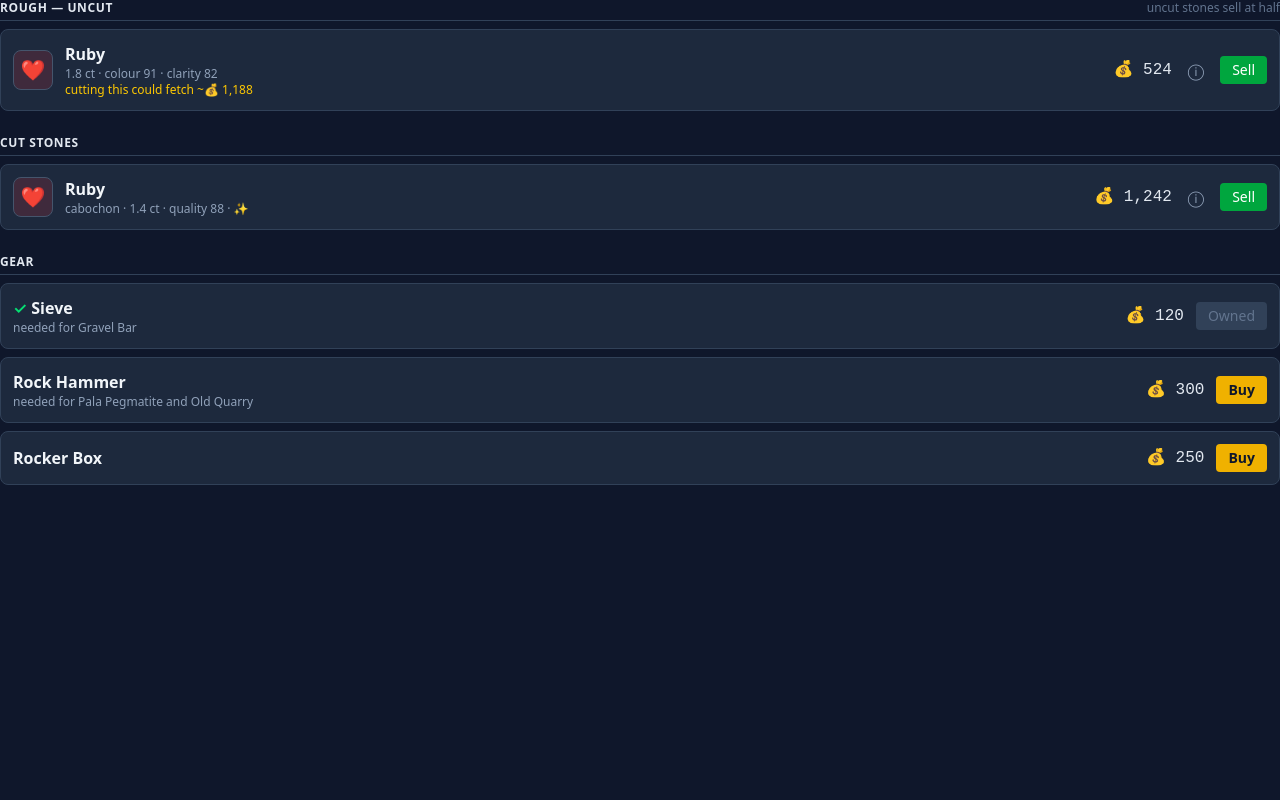
Test: Market › explains a price in a breakdown modal
Click the button named "Why this price for cut Ruby" at (1196, 197), box [1184,185,1208,209]
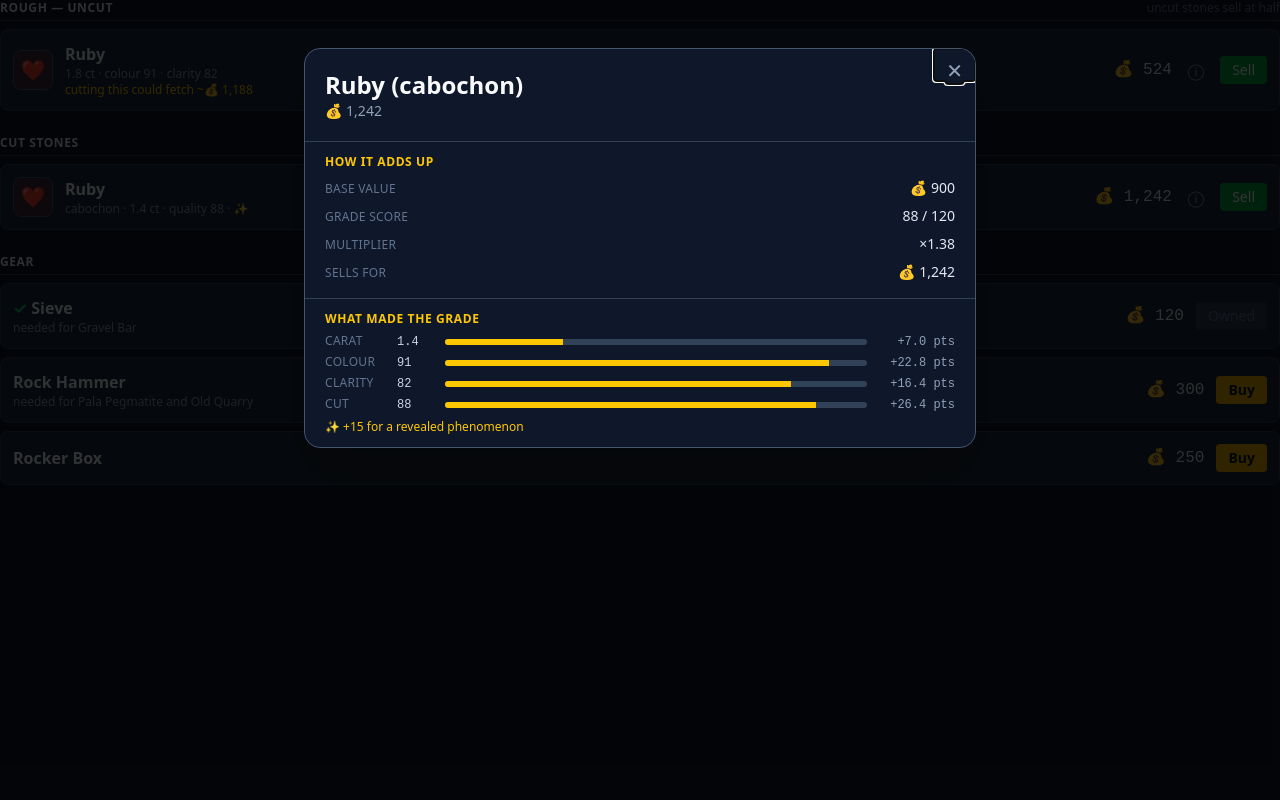
Check: the dialog shows "900", box [910,178,955,197]
Click the button named "close entry" at (955, 65), box [934,49,975,81]
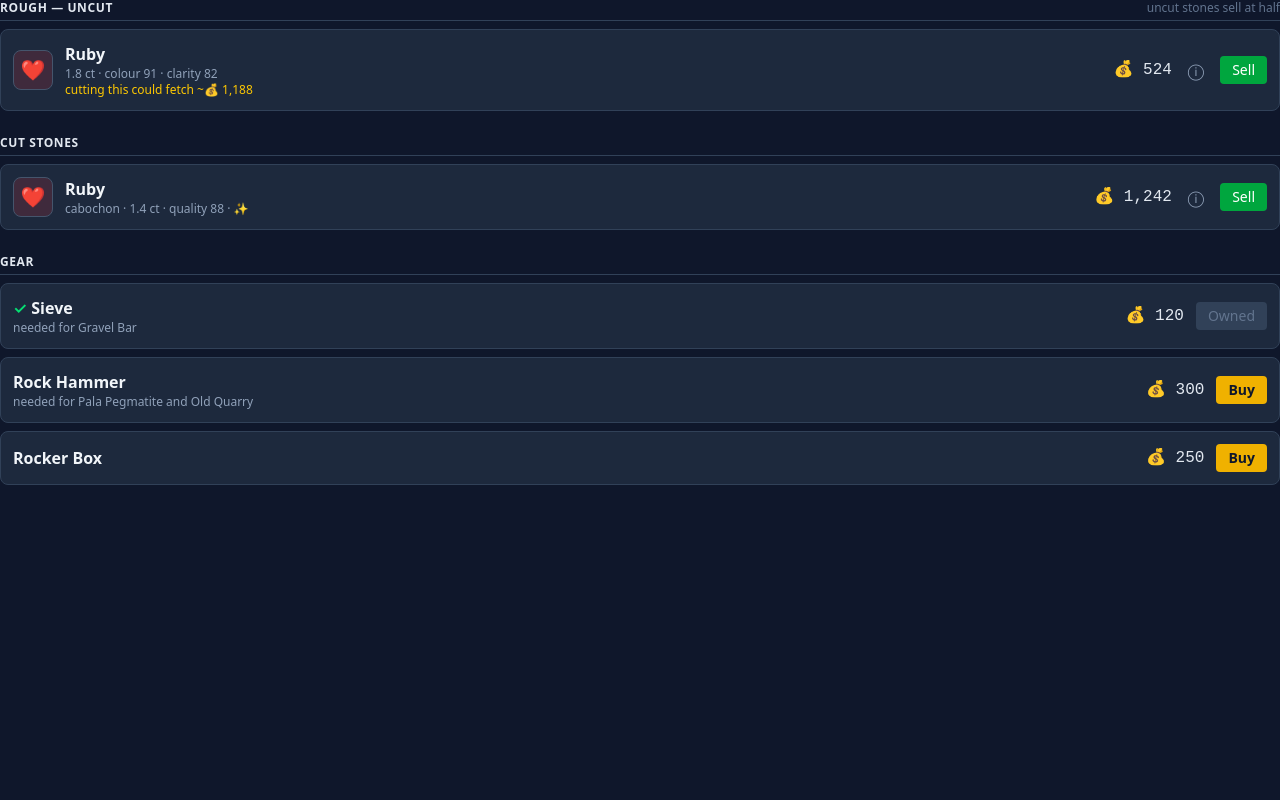
Check: the dialog is gone
